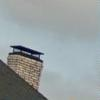Chimney: (8, 32, 46, 85)
